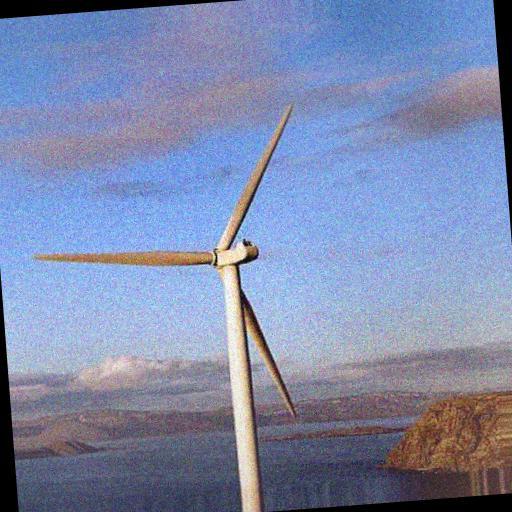wind turbine: (32, 99, 297, 487)
